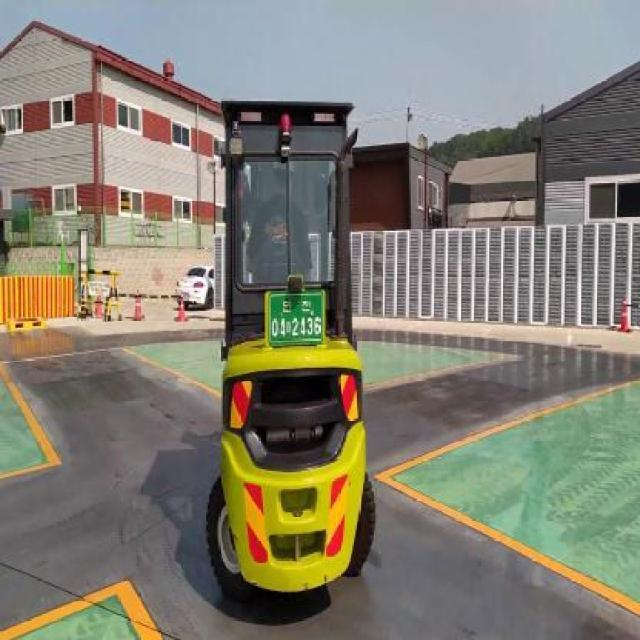forklift: (205, 97, 378, 606)
